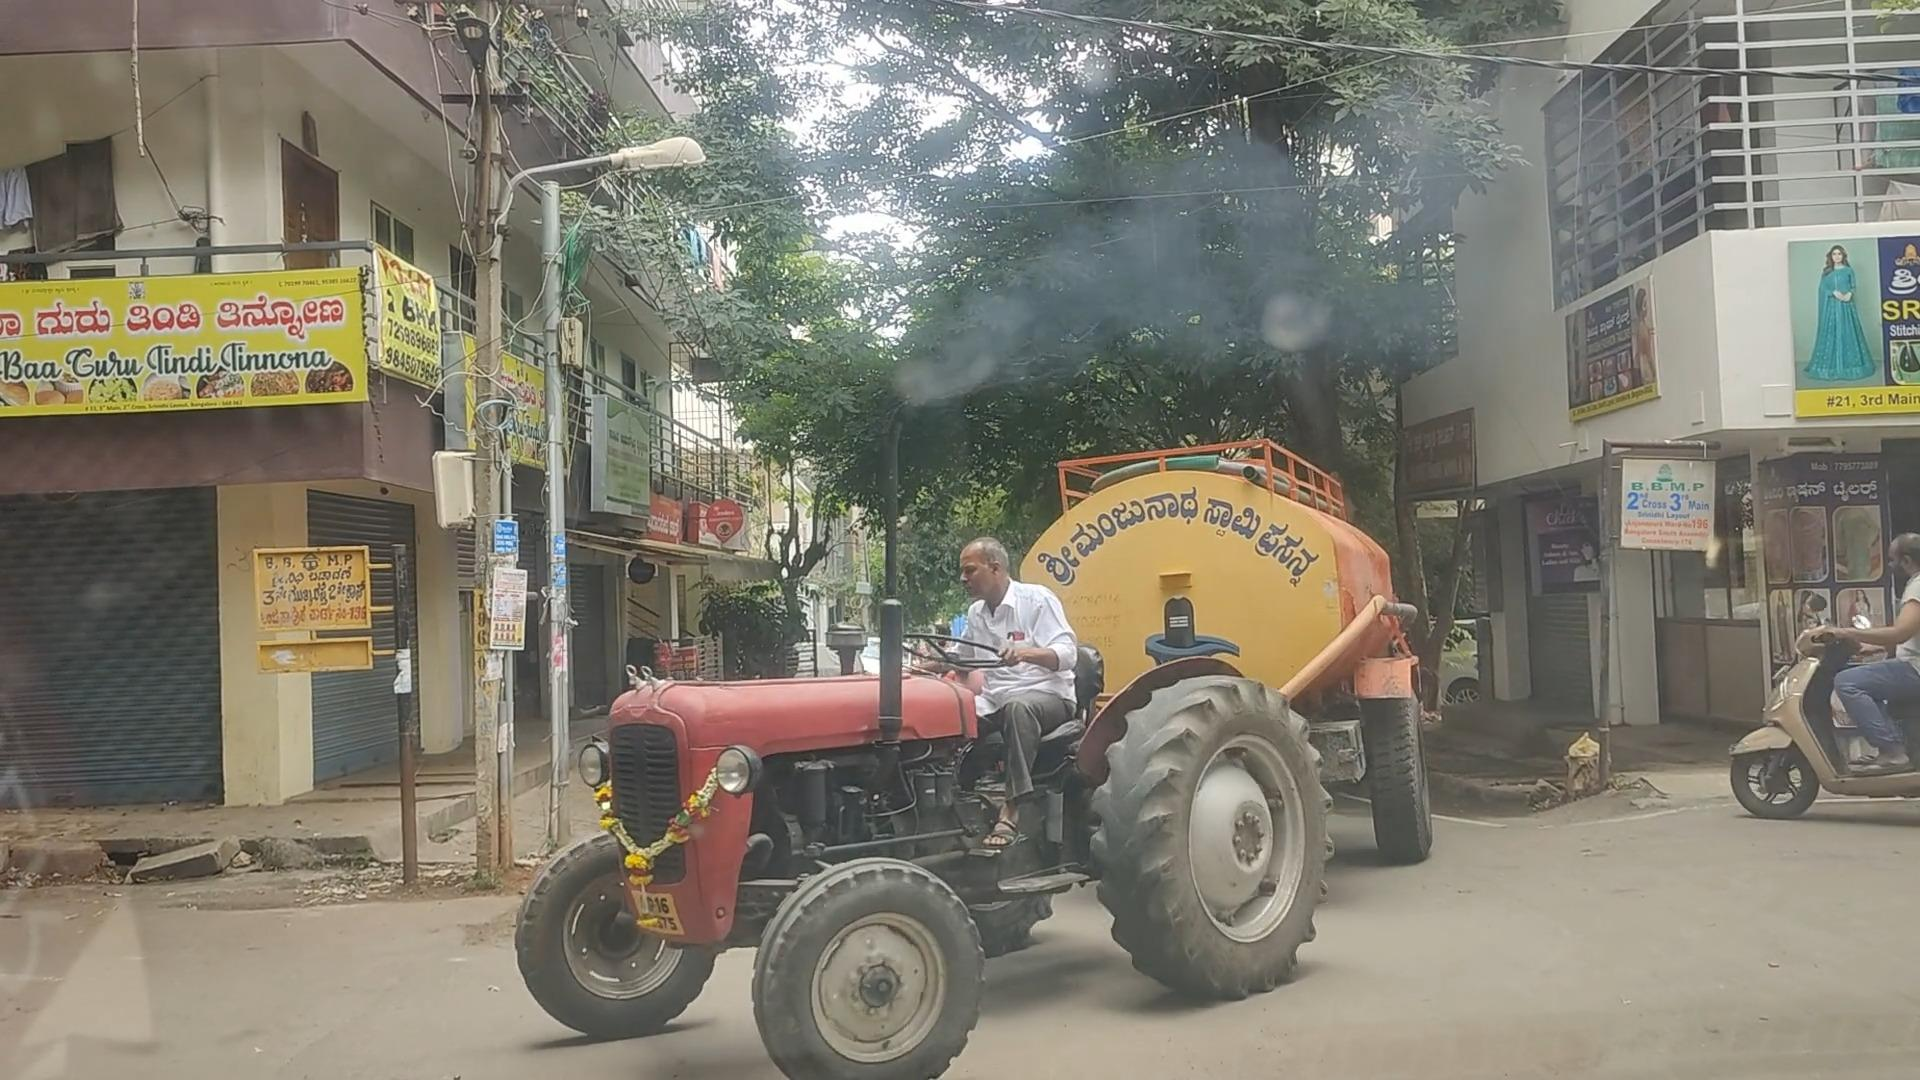HMV: (455, 404, 1461, 1075)
